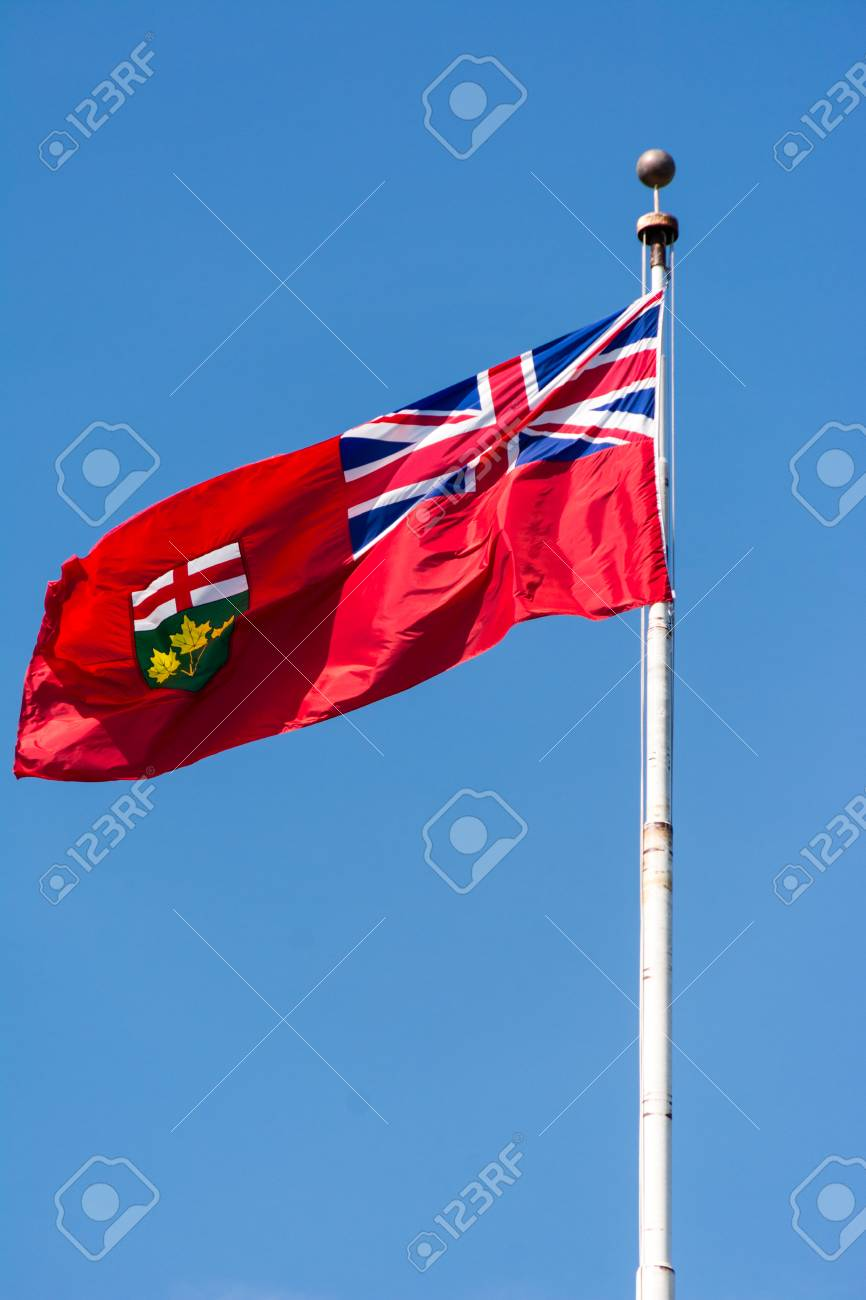Flag: (14, 285, 680, 785)
